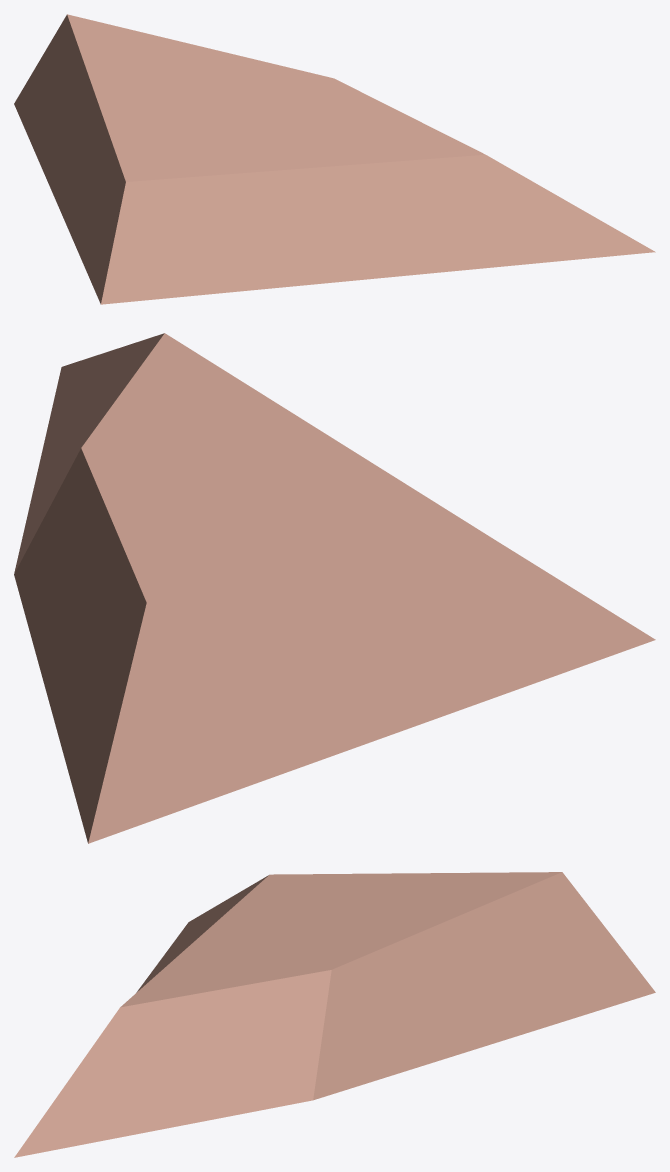
The model's file is Rock_Mesa_Small_2.fbx.
The picture shows the model from 3 angles, top to bottom: view 1: azimuth 30°, elevation 25°; view 2: azimuth 150°, elevation 25°; view 3: azimuth 270°, elevation 25°; orthographic projection. The views are drawn at different scales.
Visible parts, largest first — view 1: Cube; view 2: Cube; view 3: Cube.
Boxes of the visible parts, bbox=[...] form: Cube: bbox=[14, 14, 655, 304]; Cube: bbox=[14, 333, 655, 843]; Cube: bbox=[14, 872, 655, 1157].
Bounding box in the file's own units: 31.73 × 7.81 × 36.51.
